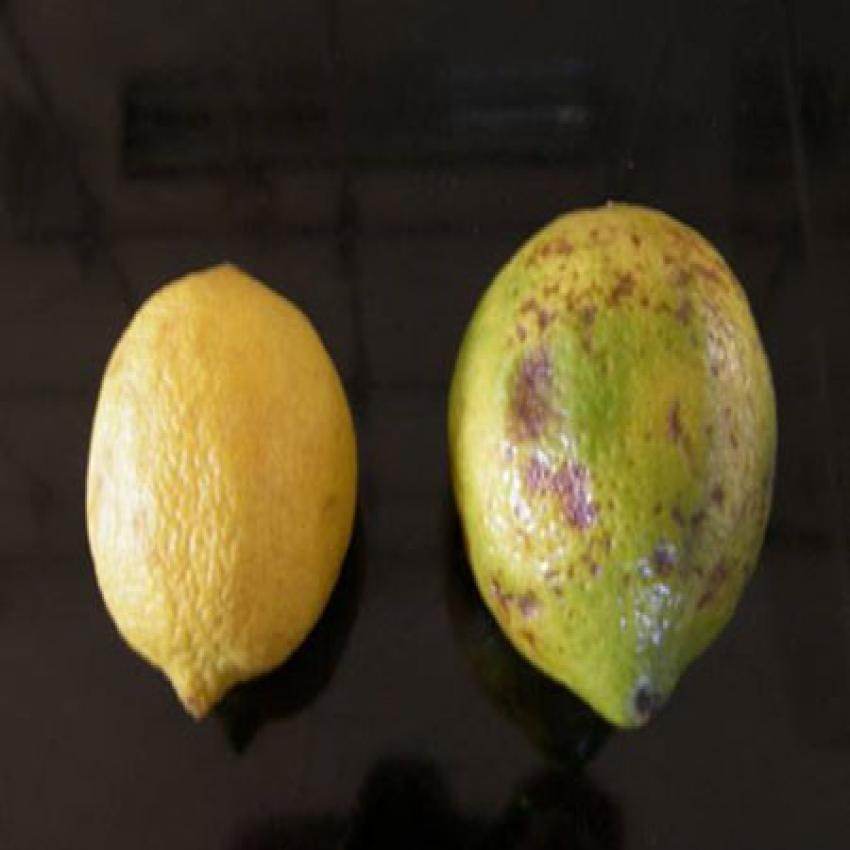Mal estado: (436, 179, 782, 755), (55, 223, 384, 740)
